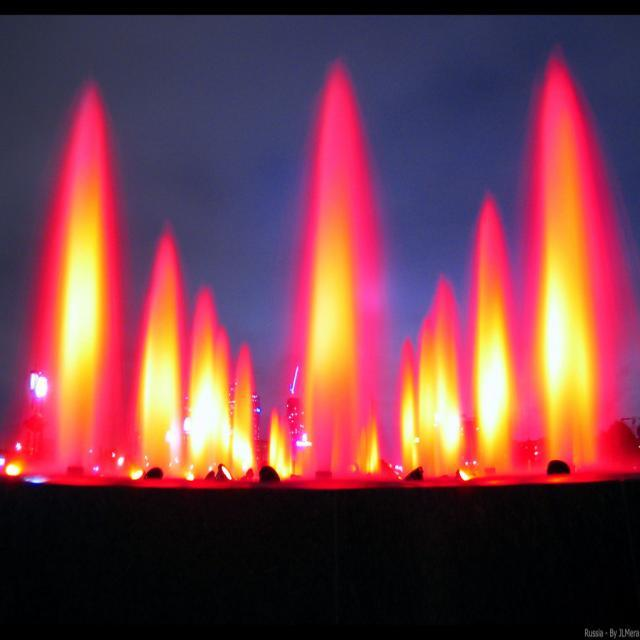Fire: (538, 256, 602, 422), (56, 216, 100, 400), (311, 236, 349, 402), (402, 356, 463, 452), (144, 298, 178, 454), (480, 306, 515, 434), (192, 352, 232, 459)
